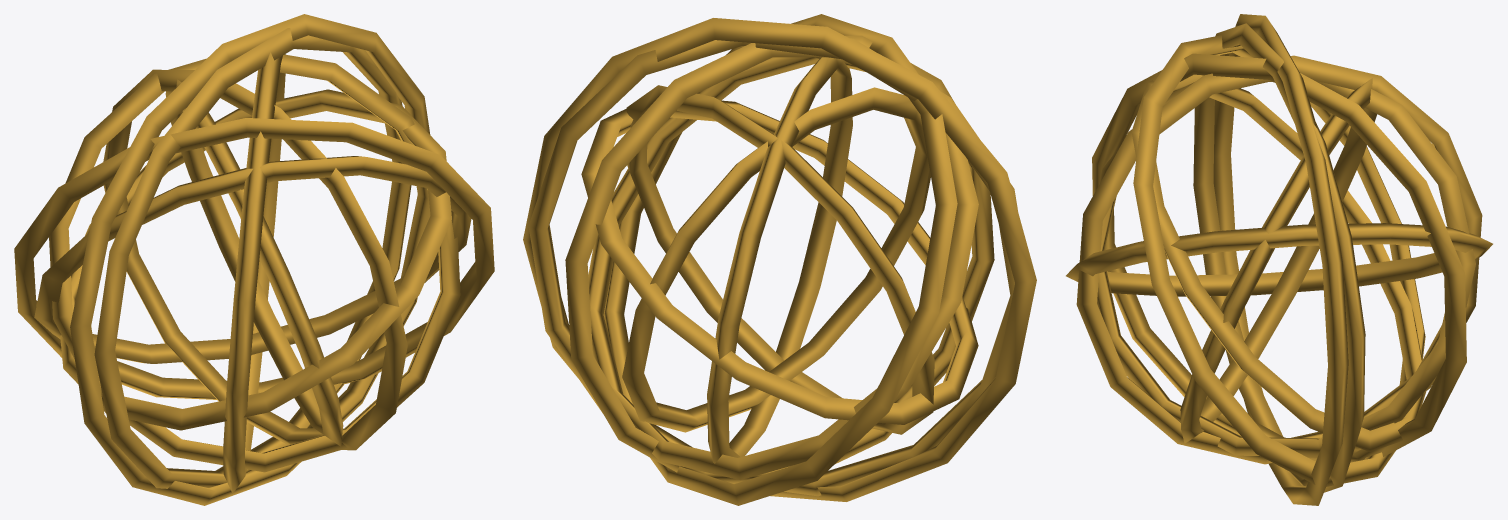
File: gulch_tumbleweed.glb
3 renders of one model, left to right at view 1: azimuth 30°, elevation 25°; view 2: azimuth 150°, elevation 25°; view 3: azimuth 270°, elevation 25°, orthographic. The views are drawn at different scales.
Visible parts, largest first — view 1: Tumbleweed; view 2: Tumbleweed; view 3: Tumbleweed.
Boxes of the visible parts, bbox=[...] form: Tumbleweed: bbox=[14, 14, 494, 505]; Tumbleweed: bbox=[523, 14, 1036, 505]; Tumbleweed: bbox=[1066, 14, 1492, 505].
Size of the model in its own units: 0.9919 by 1.01 by 0.8678.
